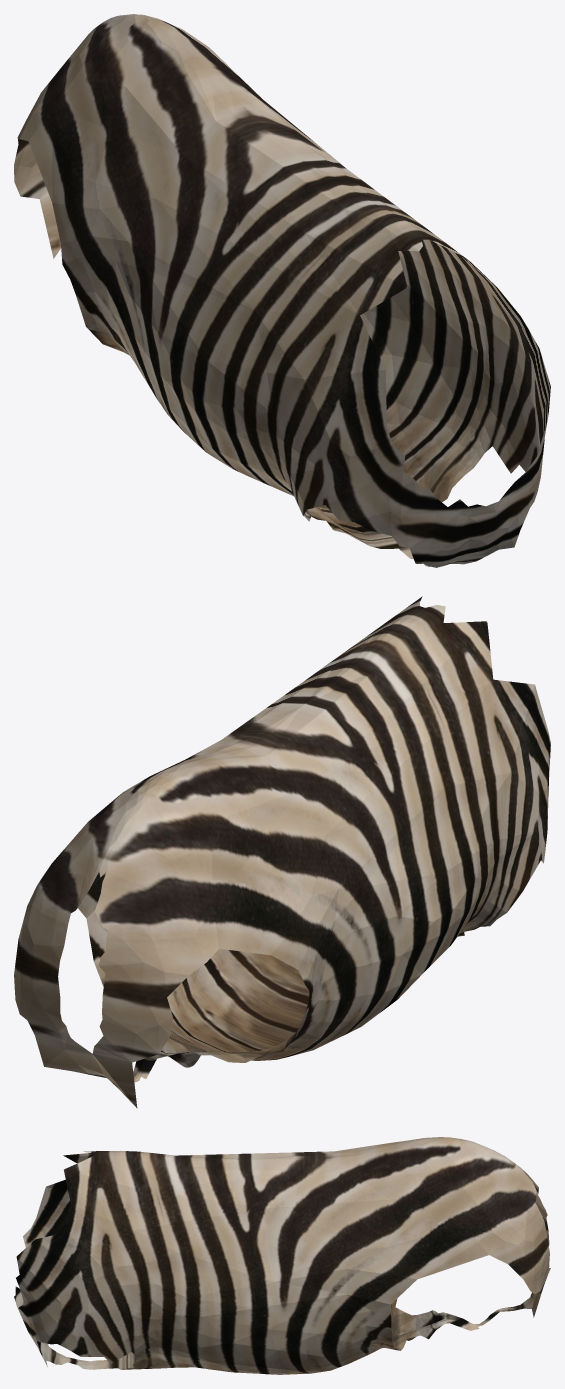
Rendered from Zcuerpo.obj.
The picture shows the model from 3 angles, top to bottom: view 1: azimuth 30°, elevation 25°; view 2: azimuth 150°, elevation 25°; view 3: azimuth 270°, elevation 25°; orthographic projection. The views are drawn at different scales.
Parts seen in each view (by area): view 1: Cuerpo; view 2: Cuerpo; view 3: Cuerpo.
Part boxes in pixels (x1,y1,x2,y2): Cuerpo: (14, 14, 550, 567); Cuerpo: (14, 596, 550, 1108); Cuerpo: (14, 1137, 550, 1374).
Bounding box in the file's own units: 0.5869 × 0.7891 × 1.69.
1 material, 1 textured.
